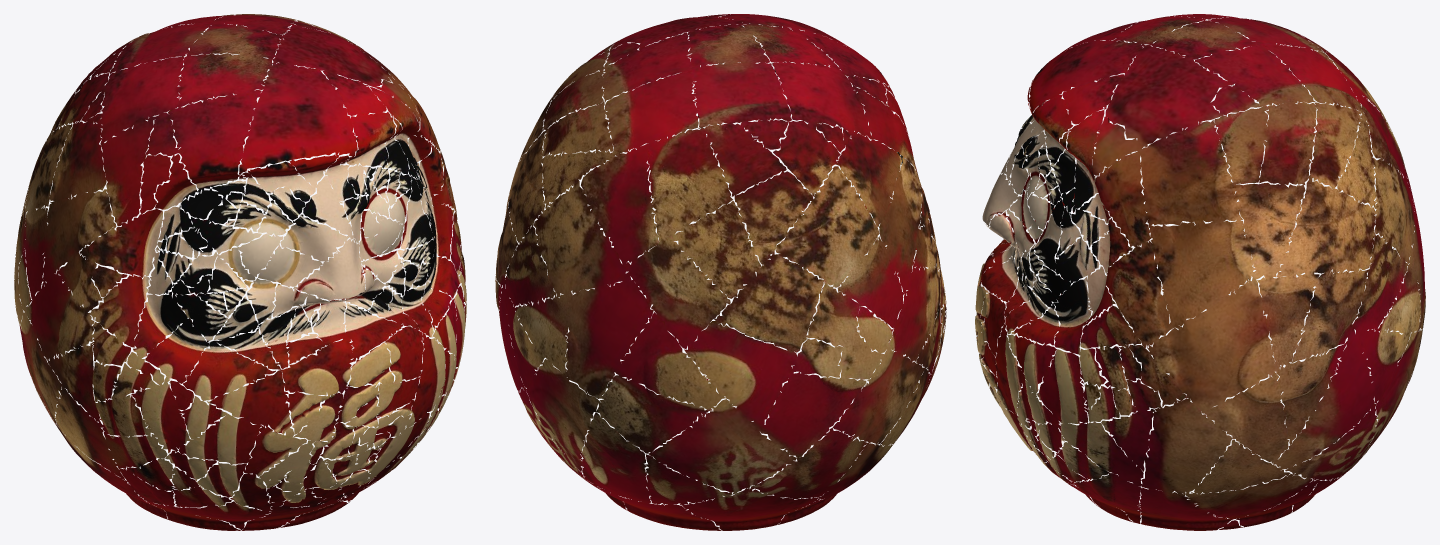
Rendered from daruma_noeyes_web.glb.
3 renders of one model, left to right at view 1: azimuth 30°, elevation 25°; view 2: azimuth 150°, elevation 25°; view 3: azimuth 270°, elevation 25°, orthographic.
Parts seen in each view (by area): view 1: daruma; view 2: daruma; view 3: daruma.
Boxes of the visible parts, bbox=[...] form: daruma: bbox=[14, 14, 466, 530]; daruma: bbox=[495, 14, 946, 530]; daruma: bbox=[975, 14, 1425, 530].
Size of the model in its own units: 1.65 by 1.8 by 1.65.
1 material, 1 textured.
